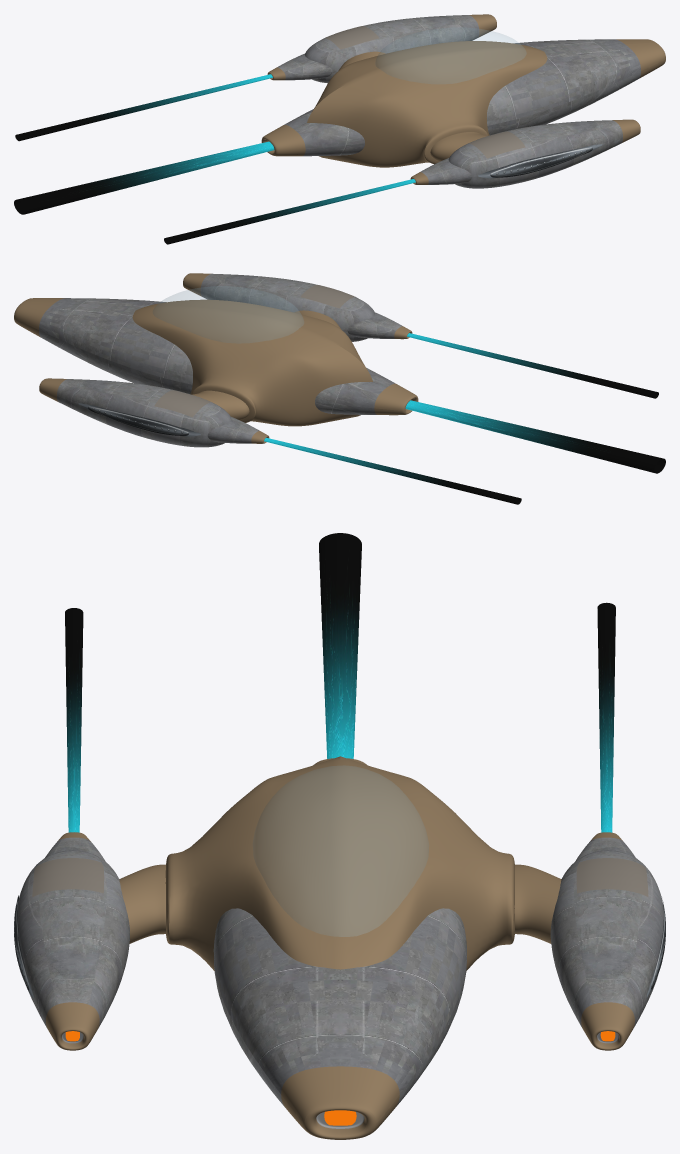
Rendered from nms-fan-ship.glb.
3 views of the same model, one above another, from view 1: azimuth 30°, elevation 25°; view 2: azimuth 150°, elevation 25°; view 3: azimuth 270°, elevation 25° (orthographic). The views are drawn at different scales.
Parts seen in each view (by area): view 1: root; view 2: root; view 3: root.
Part boxes in pixels (box(x1,y1,x2,y2)): root: box(14, 14, 665, 244); root: box(14, 273, 665, 504); root: box(14, 533, 665, 1139).
Size of the model in its own units: 46 by 7.37 by 21.88.
Materials: 11 (5 with a texture image).
